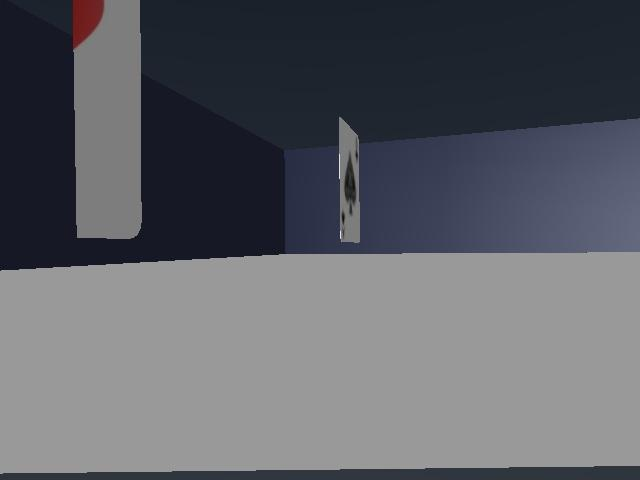club: (339, 118, 359, 242)
